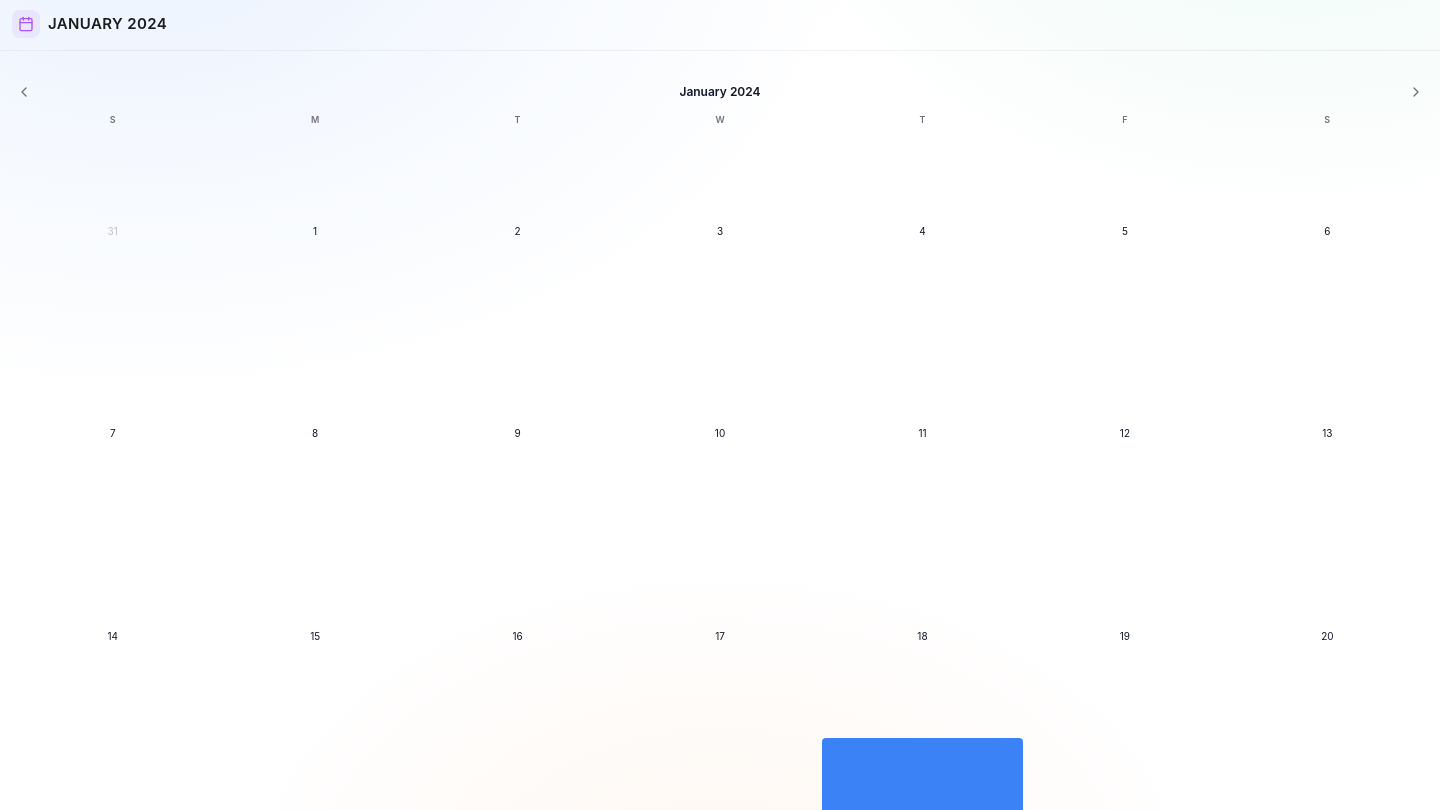
CalendarWidget › Month Navigation › navigates to next month
Click the button named "Next month" at (1416, 92), box [1404,80,1428,104]
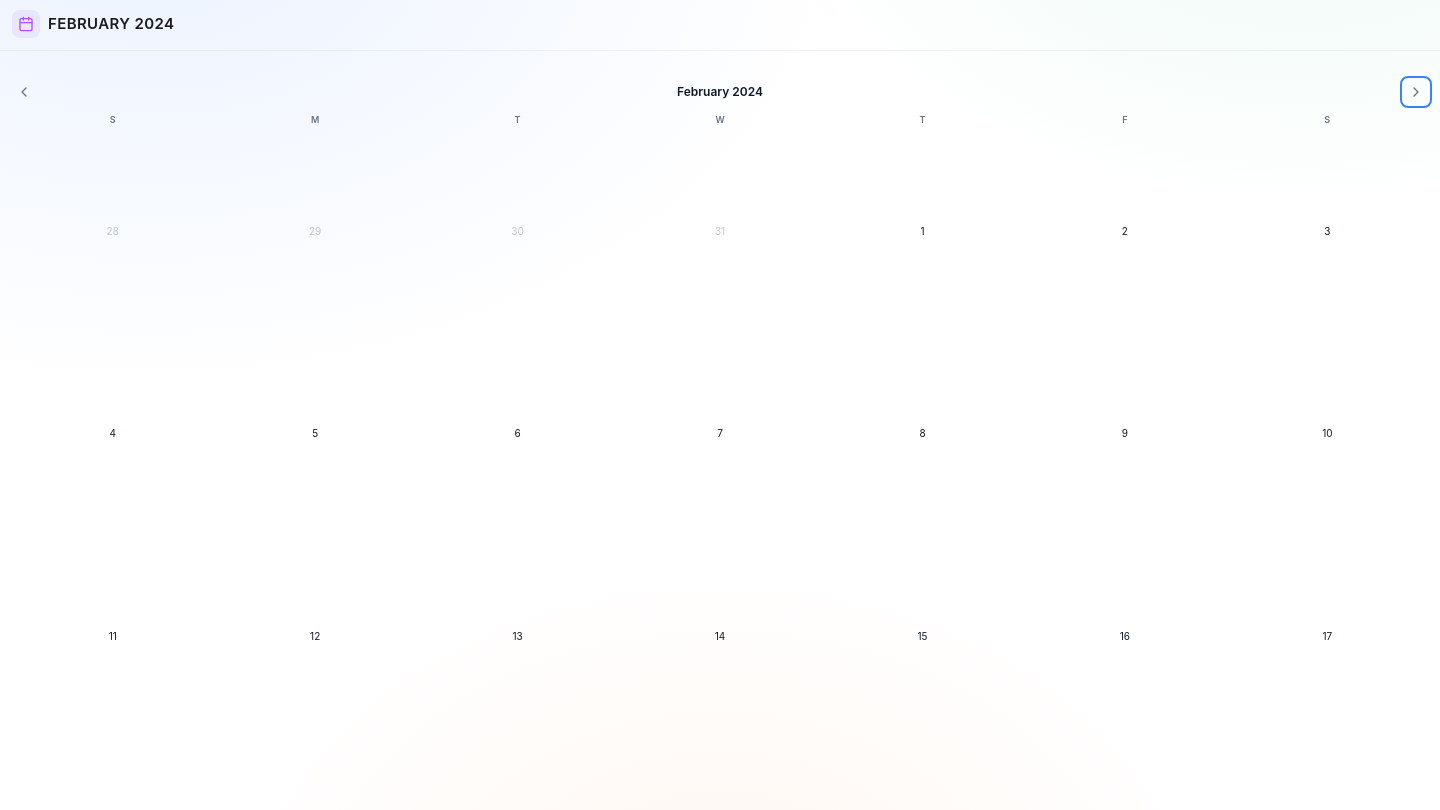
Expected: the heading "February 2024" is shown, [48,13,174,35]
